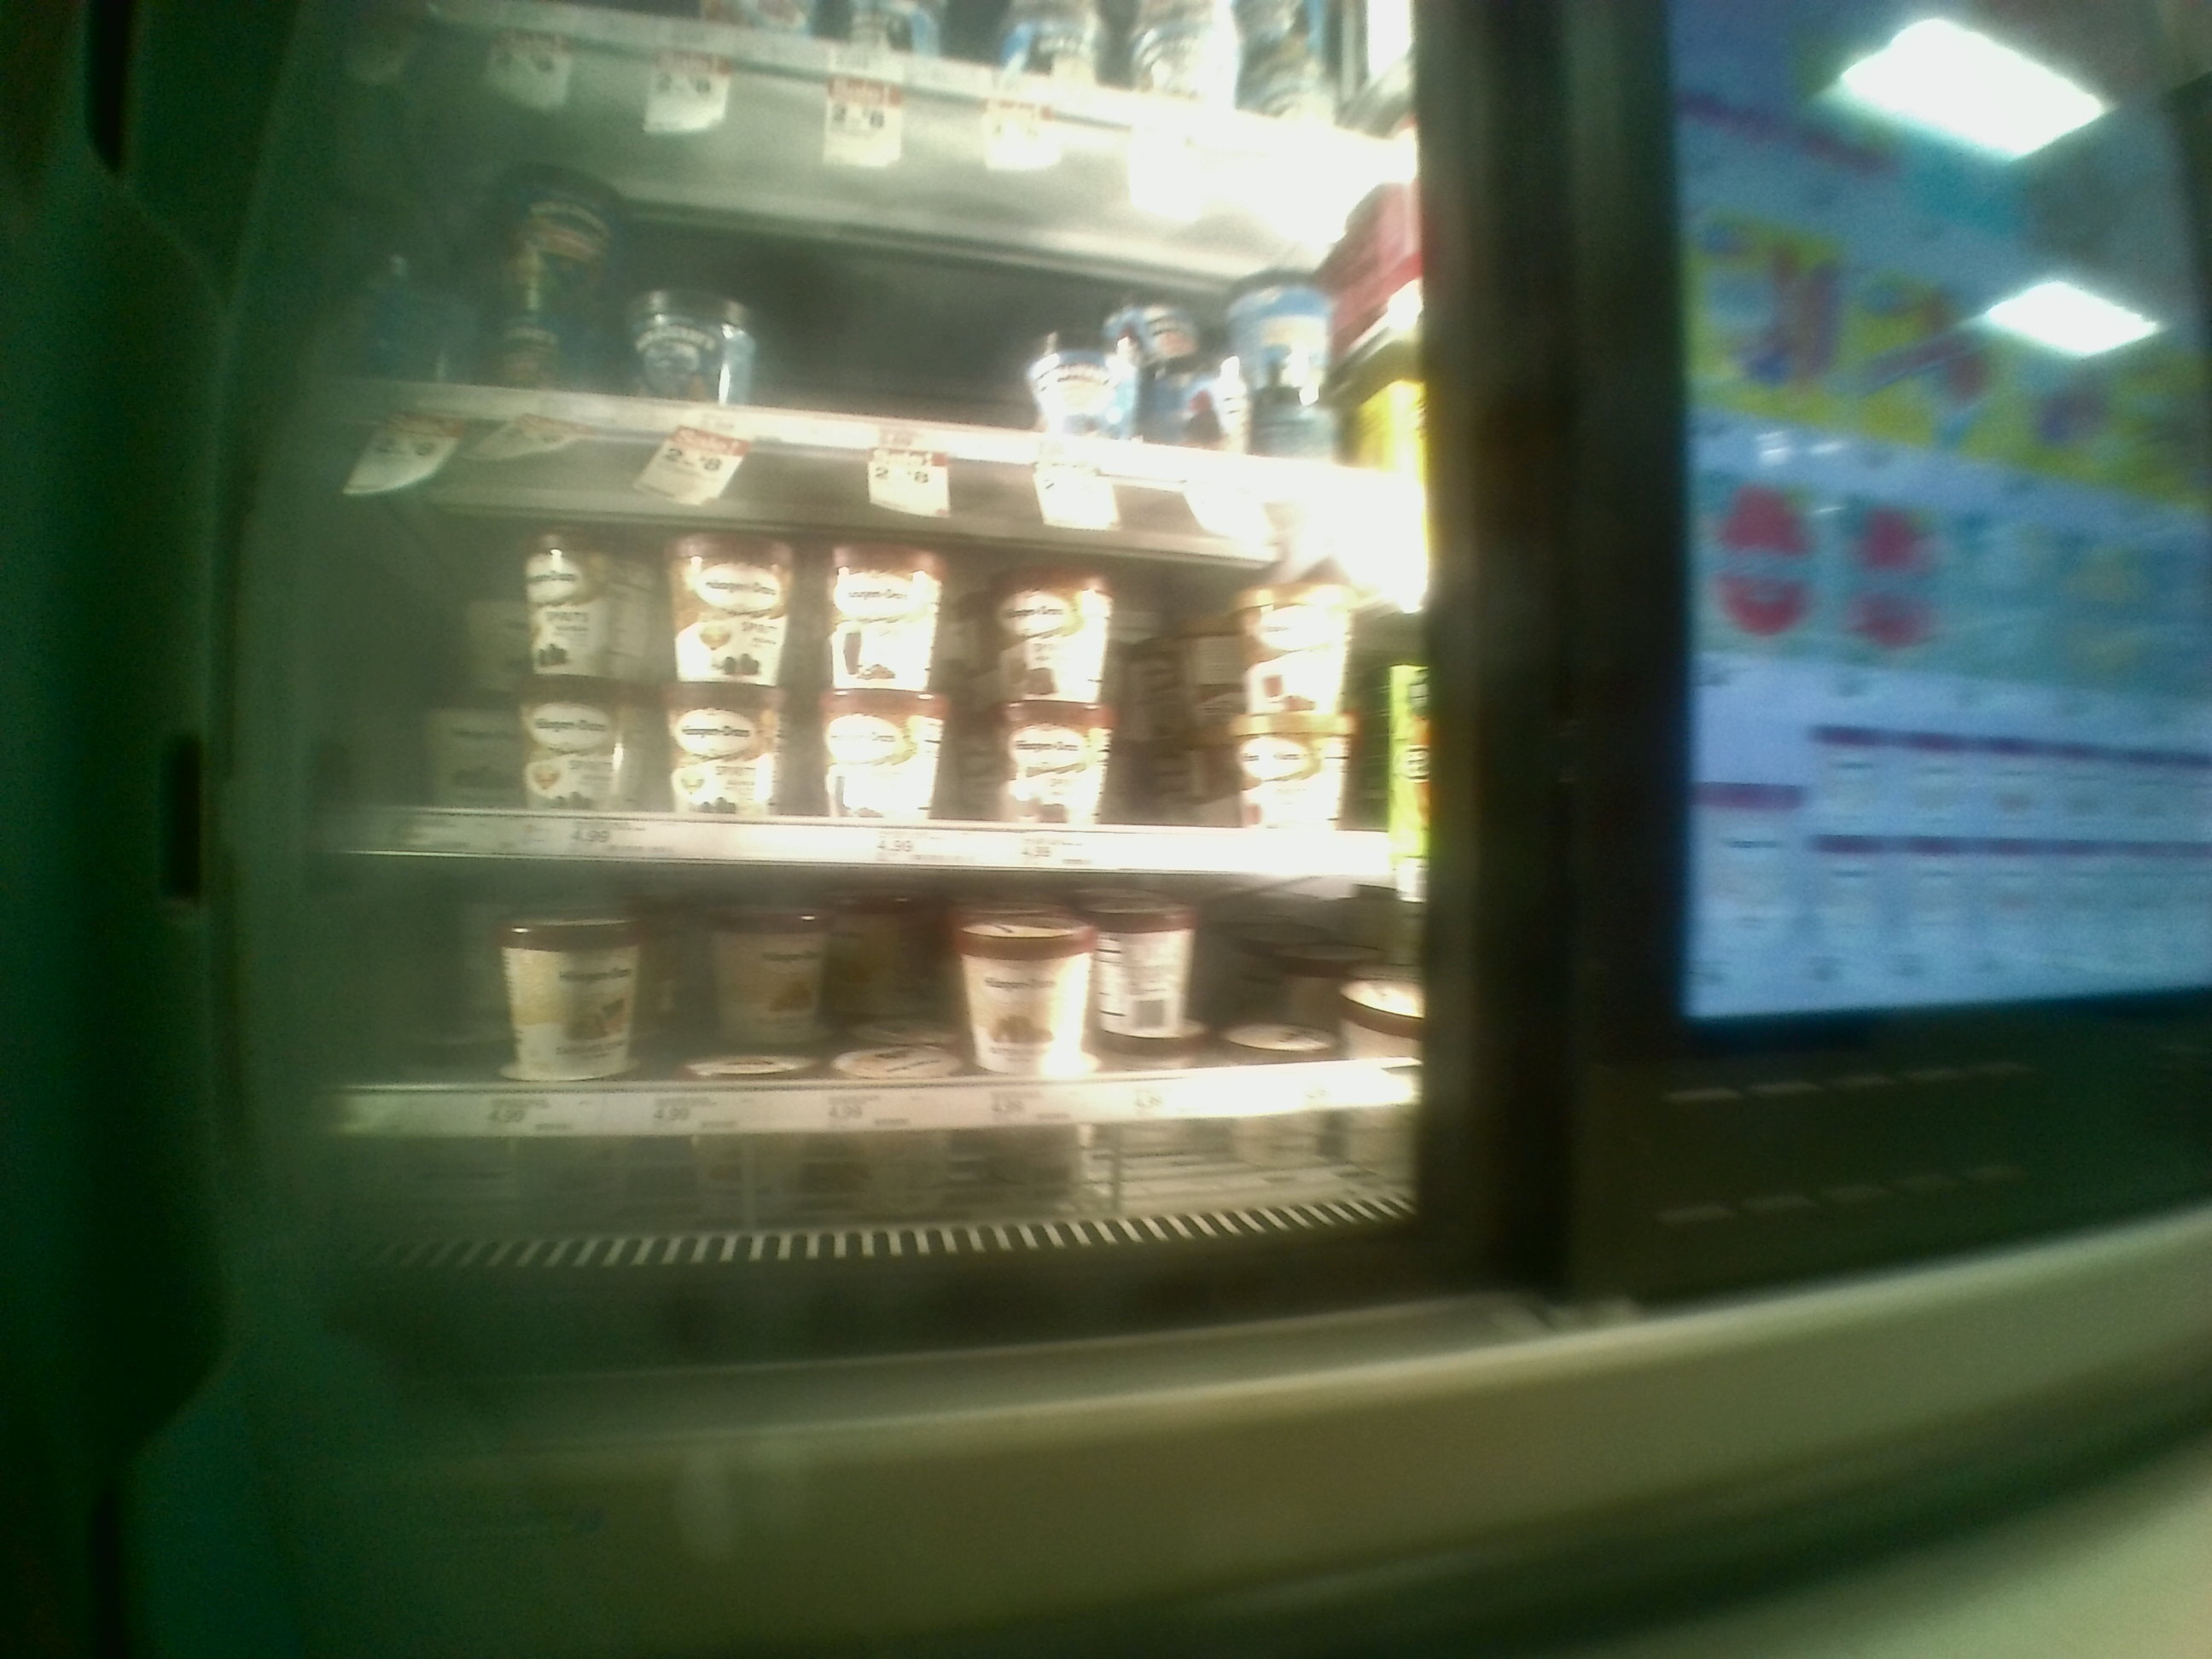shelf: (324, 413, 1433, 849), (319, 854, 1425, 1178)
